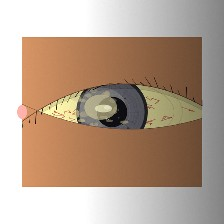corneal_ulcer: (74, 86, 127, 128)
